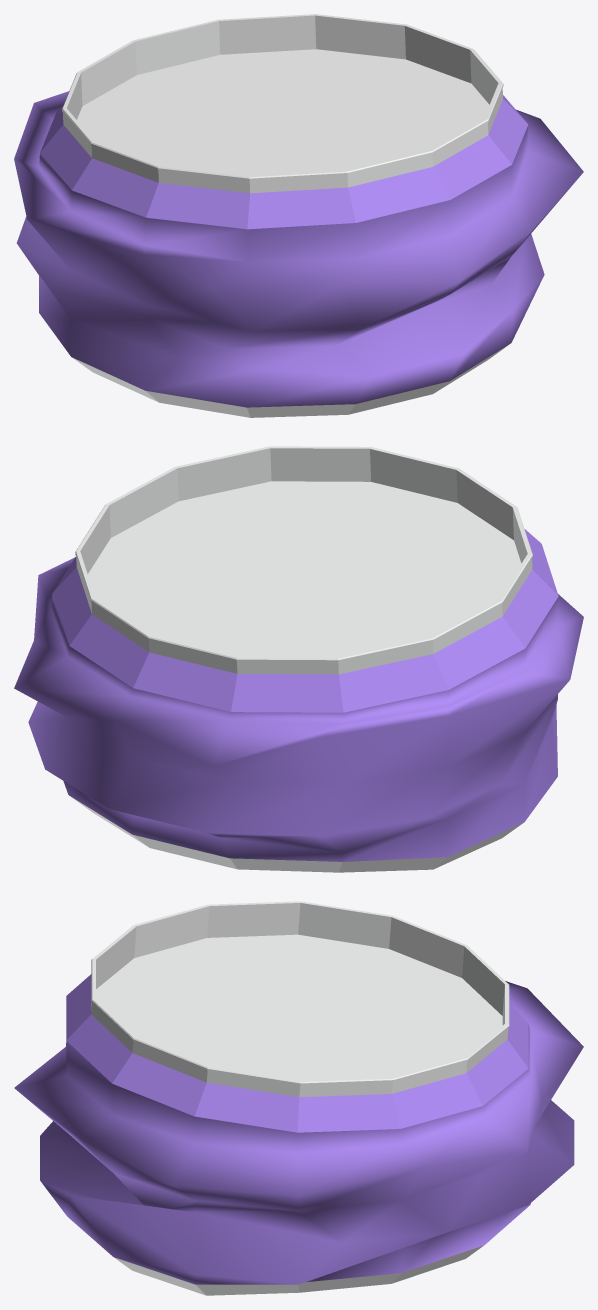
File: CrushedSodaCan.fbx
3 renders of one model, top to bottom at view 1: azimuth 30°, elevation 25°; view 2: azimuth 150°, elevation 25°; view 3: azimuth 270°, elevation 25°, orthographic. The views are drawn at different scales.
Visible parts, largest first — view 1: CrushedSodaCan; view 2: CrushedSodaCan; view 3: CrushedSodaCan.
Part boxes in pixels (x1,y1,x2,y2): CrushedSodaCan: [14, 14, 583, 417]; CrushedSodaCan: [14, 446, 583, 872]; CrushedSodaCan: [14, 901, 583, 1295].
Size of the model in its own units: 0.5054 by 0.2284 by 0.5011.
2 materials, 2 textured.
